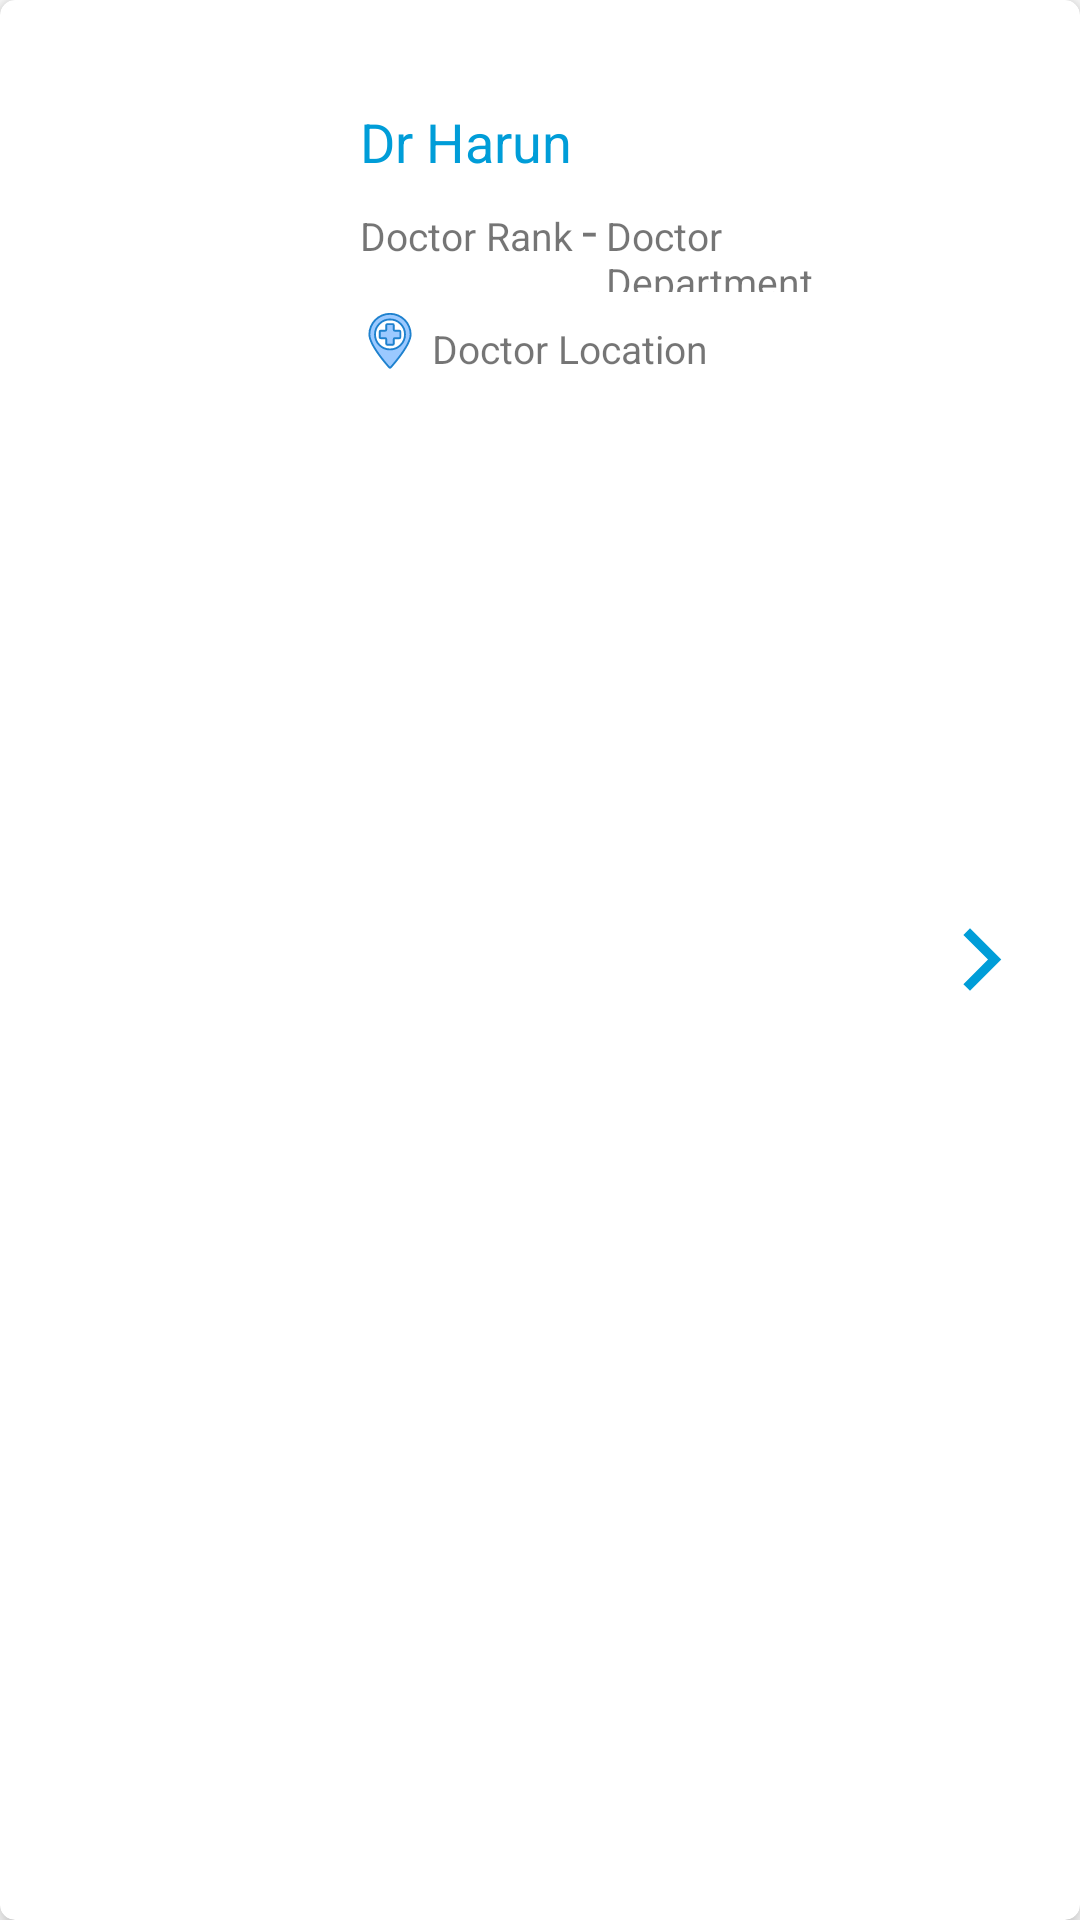

Point at icon controls on the screen. Image size 1080×1920, points as (x,y).
arrow right: (982,959)
